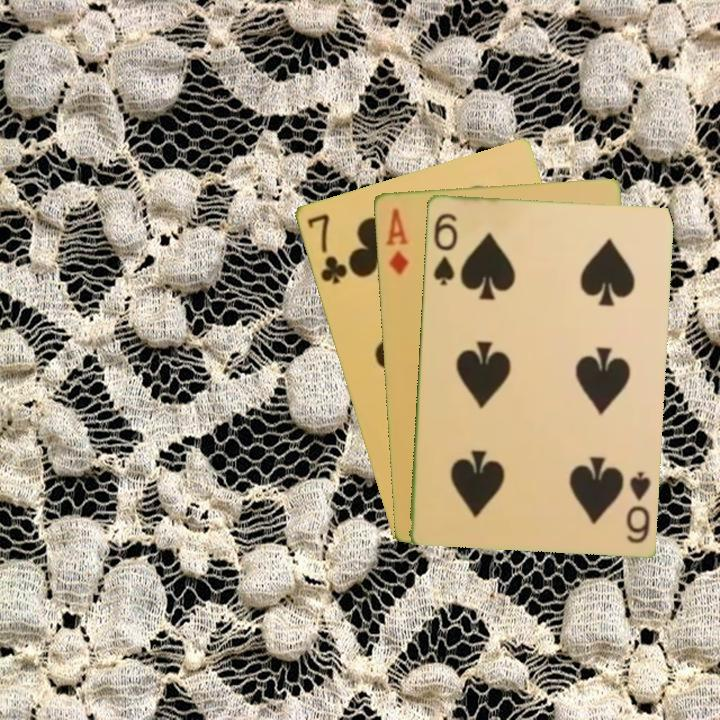6s: (622, 467, 653, 546), (430, 209, 460, 287)
7c: (303, 210, 350, 287)
Ad: (381, 204, 411, 277)
